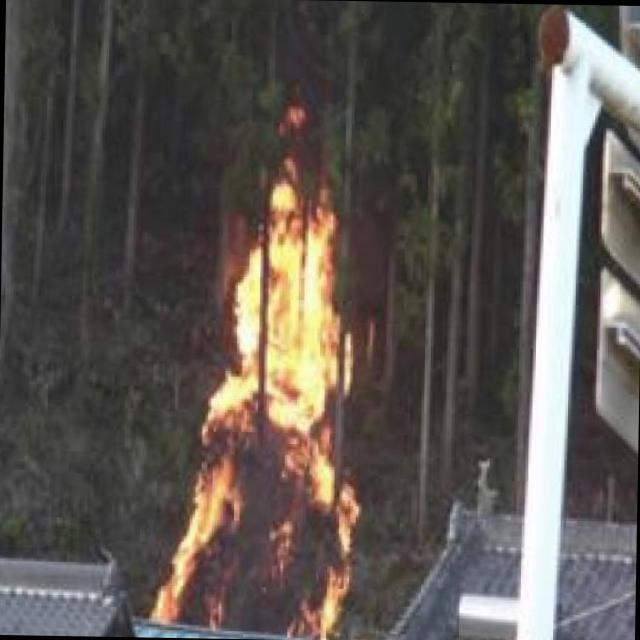Fire: (163, 176, 366, 640)
